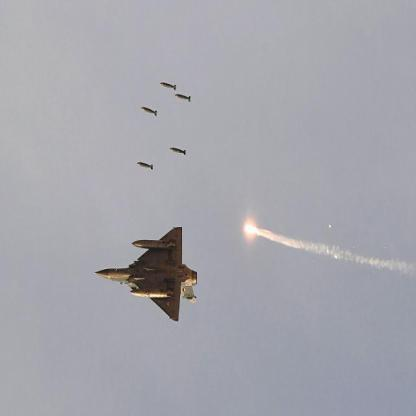MIL_TBM: (129, 239, 170, 250), (130, 288, 174, 298), (96, 268, 134, 279), (174, 90, 192, 105), (140, 105, 158, 119), (135, 160, 156, 170), (157, 82, 180, 91), (169, 146, 187, 156)
